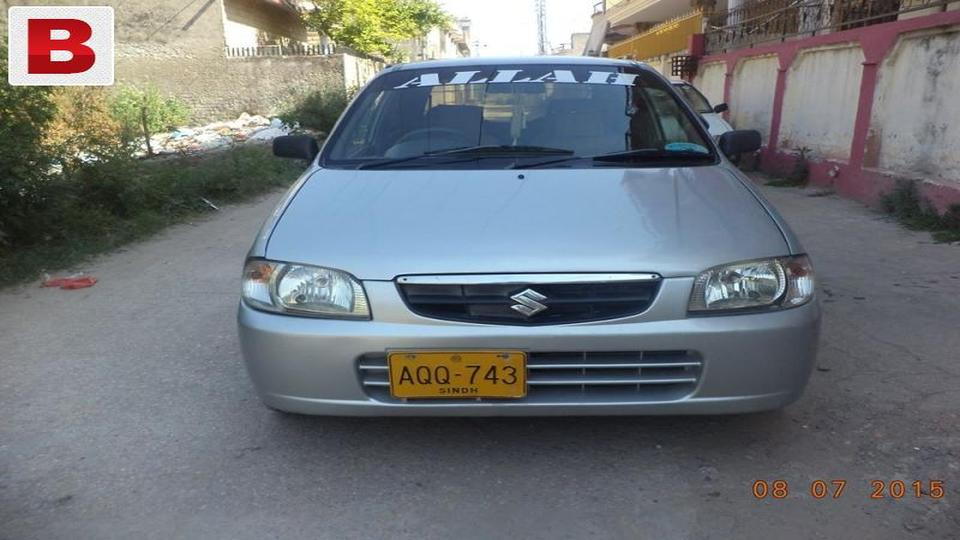NumberPlate: (376, 354, 549, 406)
